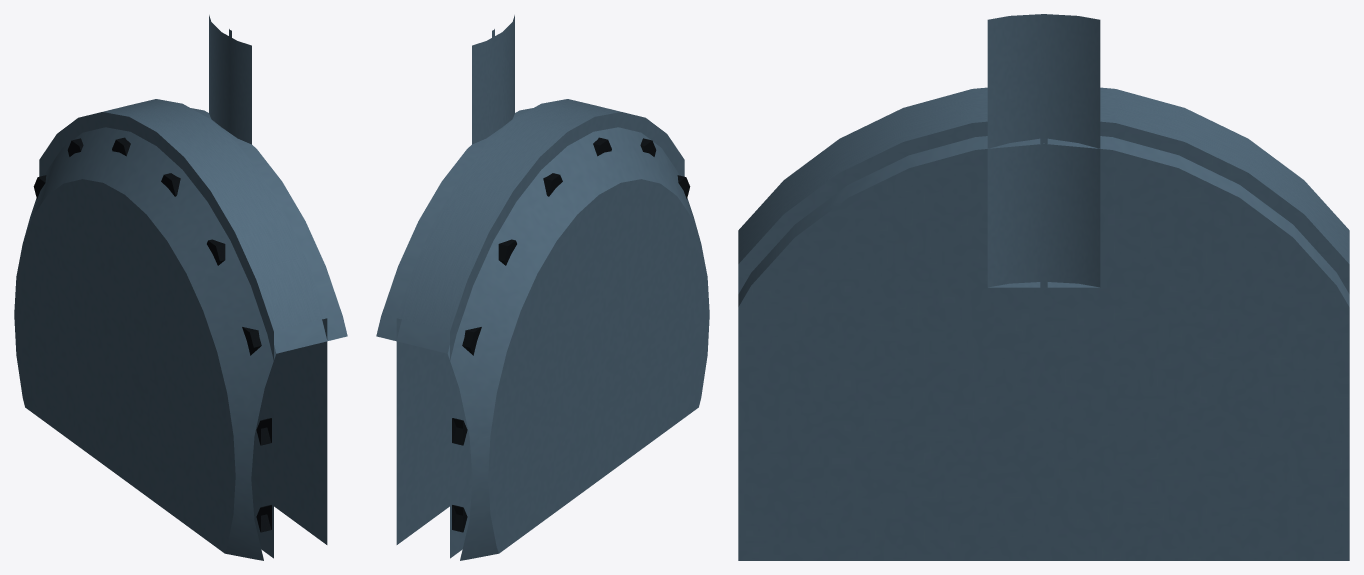
Rendered from cell_28.obj.
3 views of the same model, side by side, from view 1: azimuth 30°, elevation 25°; view 2: azimuth 150°, elevation 25°; view 3: azimuth 270°, elevation 25° (orthographic). The views are drawn at different scales.
Parts seen in each view (by area): view 1: cell_28; view 2: cell_28; view 3: cell_28.
Boxes of the visible parts, box(x1,y1,x2,y2) form: cell_28: box(14, 15, 347, 560); cell_28: box(376, 15, 709, 560); cell_28: box(738, 14, 1349, 560).
Size of the model in its own units: 0.26 by 1 by 1.
